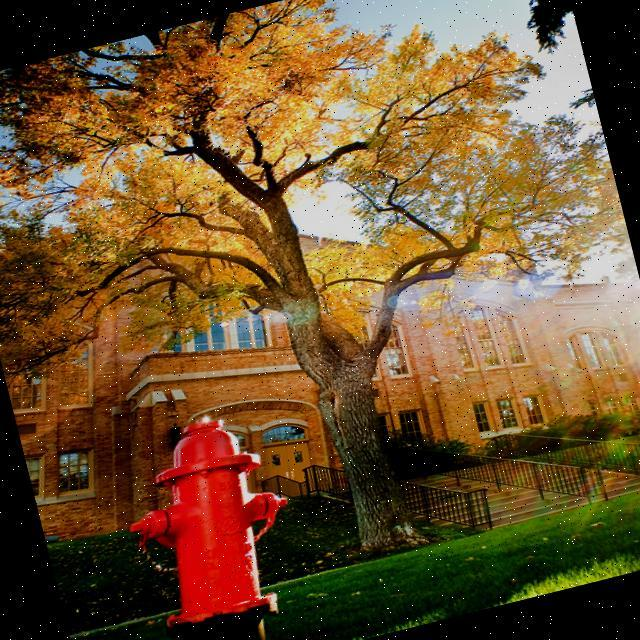fire_hydrant: (104, 403, 319, 640)
